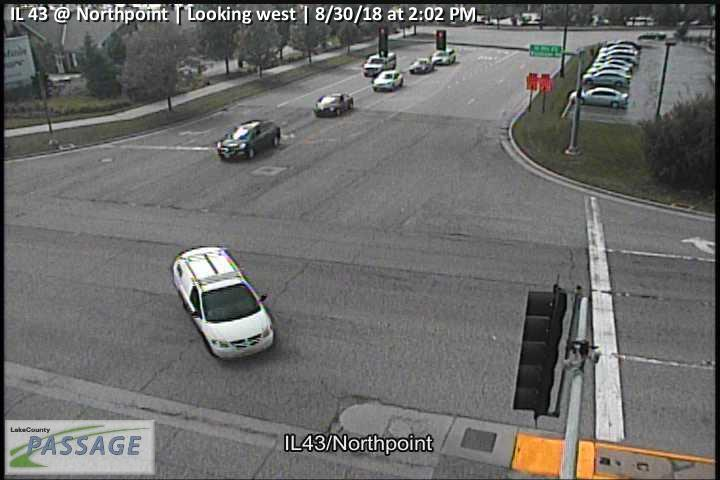SUV: (362, 49, 396, 77)
Sedan: (171, 246, 275, 361), (215, 119, 282, 161), (576, 86, 630, 111), (313, 92, 354, 116), (580, 72, 631, 87), (371, 70, 406, 90), (430, 47, 456, 65), (408, 57, 433, 75)
